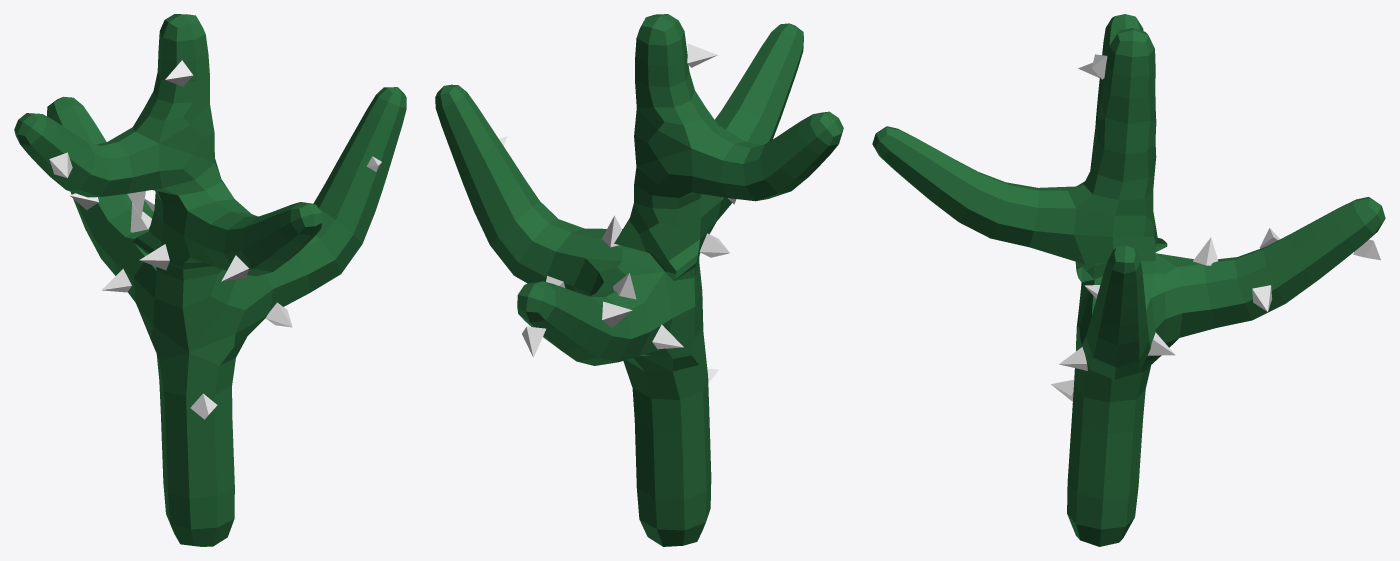
The model's file is Cactus.fbx.
The picture shows the model from 3 angles, left to right: view 1: azimuth 30°, elevation 25°; view 2: azimuth 150°, elevation 25°; view 3: azimuth 270°, elevation 25°; orthographic projection. The views are drawn at different scales.
Parts seen in each view (by area): view 1: Plane; view 2: Plane; view 3: Plane.
Boxes of the visible parts, <box> form: Plane: <box>14,14,406,546</box>; Plane: <box>435,14,843,546</box>; Plane: <box>872,14,1385,546</box>.
Size of the model in its own units: 284 by 365 by 331.
